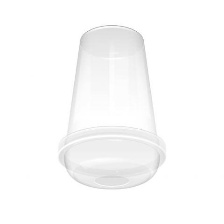glass: (48, 20, 178, 196)
